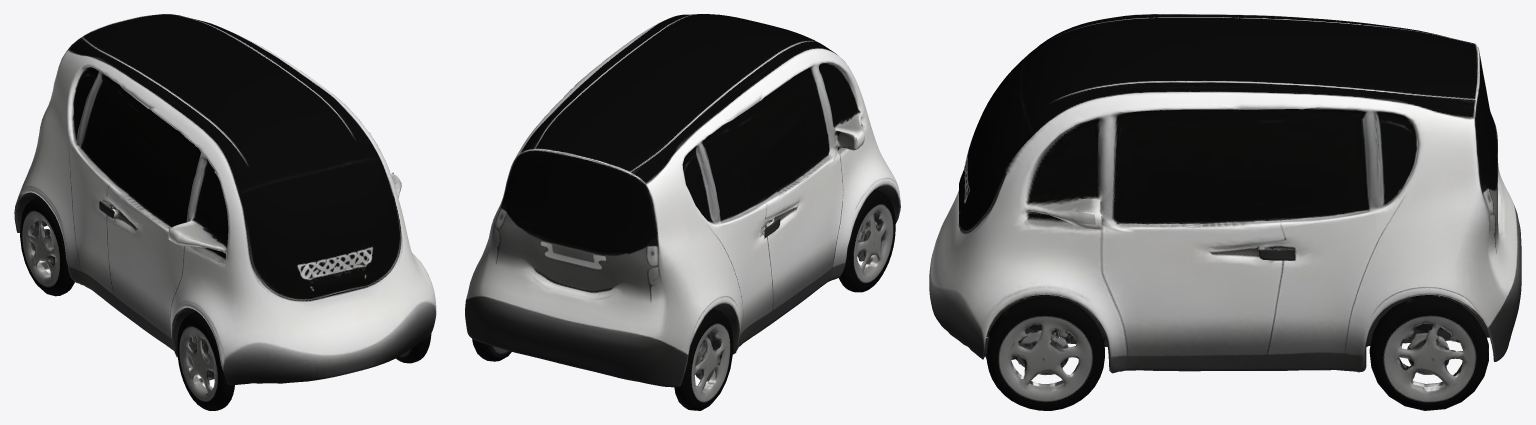
Rendered from 7017526c-b73d-4420-a226-f0202d8a238f_base_basic_pbr.glb.
3 views of the same model, side by side, from view 1: azimuth 30°, elevation 25°; view 2: azimuth 150°, elevation 25°; view 3: azimuth 270°, elevation 25° (orthographic). The views are drawn at different scales.
Parts seen in each view (by area): view 1: model; view 2: model; view 3: model.
Boxes of the visible parts, x1=… form: model: x1=14, y1=14, x2=436, y2=410; model: x1=465, y1=14, x2=900, y2=410; model: x1=929, y1=14, x2=1521, y2=410.
Bounding box in the file's own units: 1.02 × 1.08 × 1.9.
Materials: 1 (1 with a texture image).
